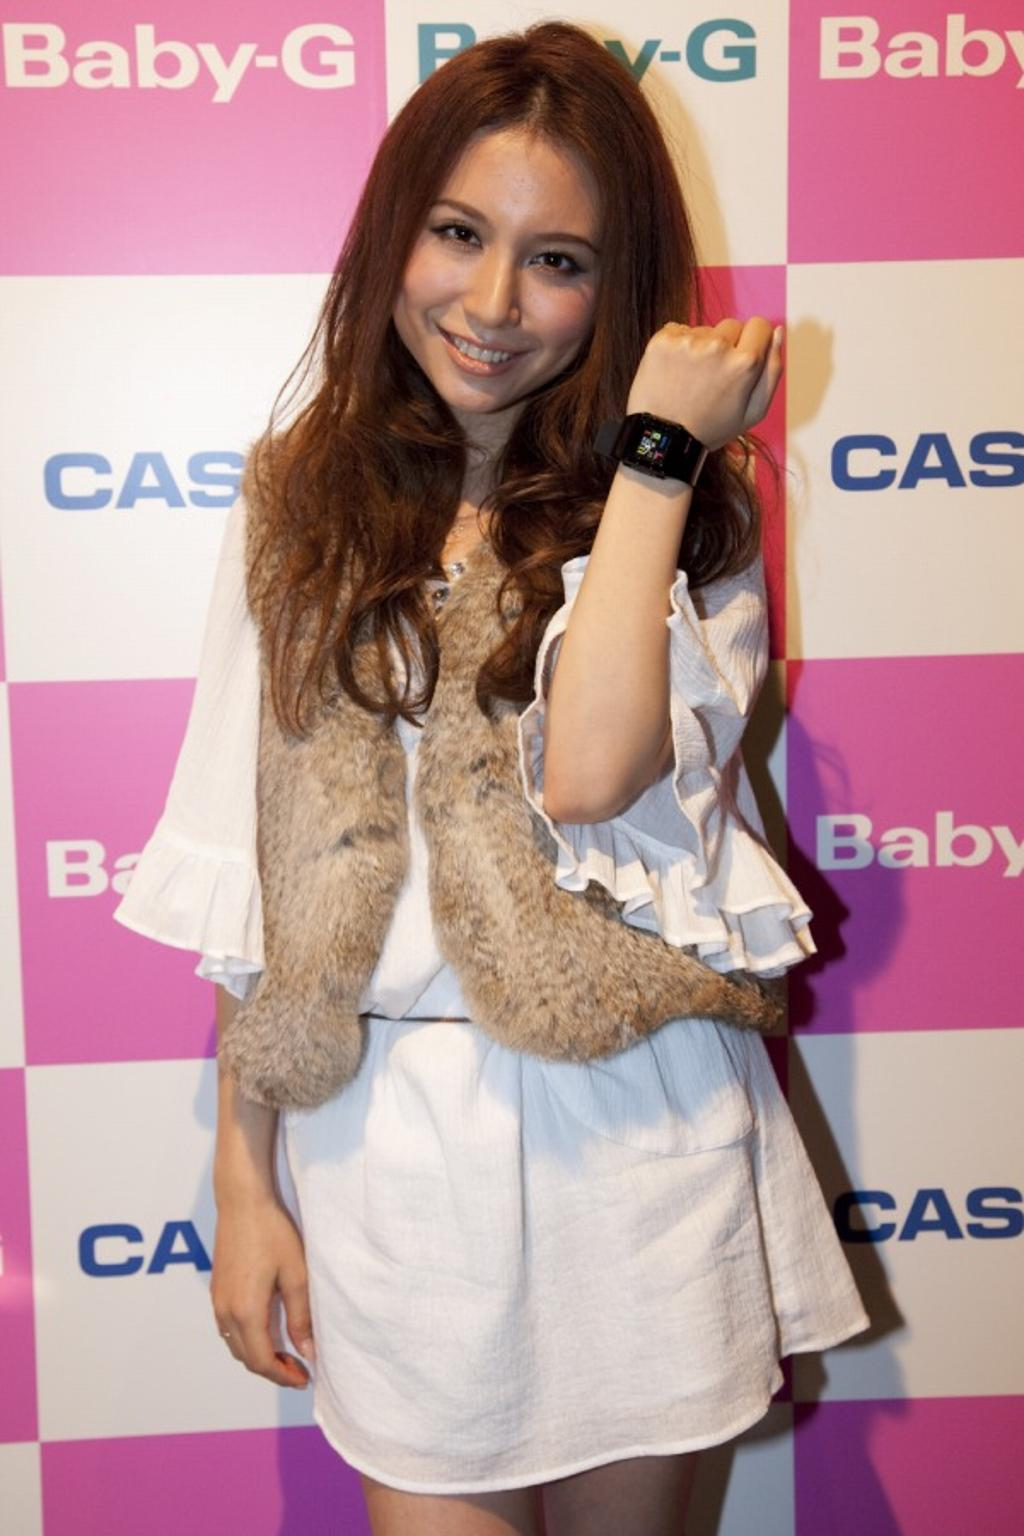face: (390, 126, 609, 408)
